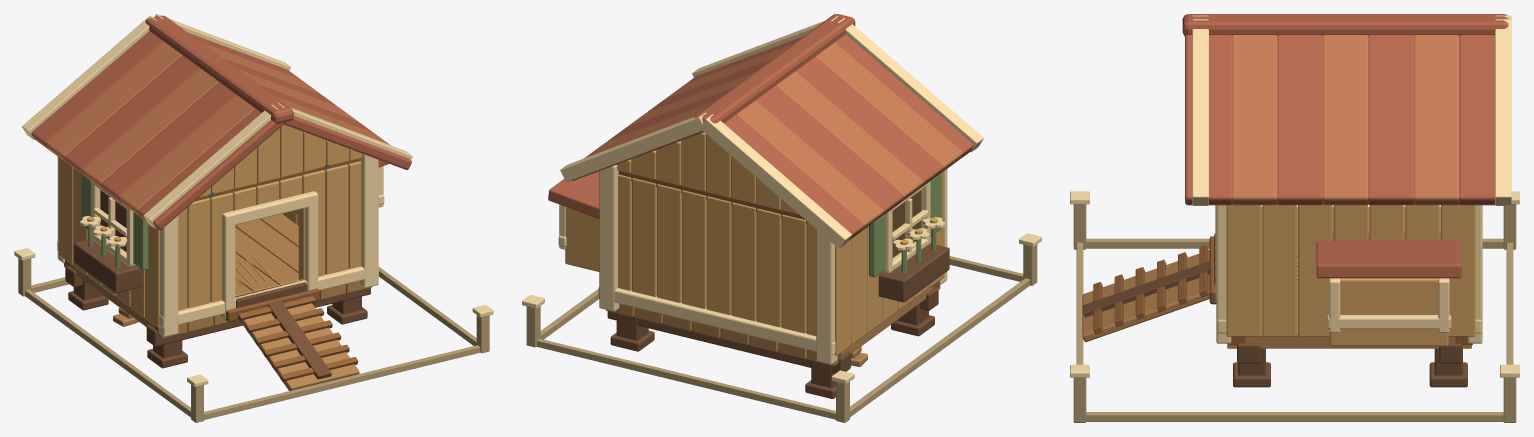
The model's file is ChickenCoop.glb.
3 renders of one model, left to right at view 1: azimuth 30°, elevation 25°; view 2: azimuth 150°, elevation 25°; view 3: azimuth 270°, elevation 25°, orthographic. The views are drawn at different scales.
Visible parts, largest first — view 1: Coop_4_RoofRed, Coop_3_WallHoney, Coop_4_RoofLight, Coop_3_Cream, Coop_0_Blueprint, Coop_4_Cream, Coop_1_BaseLight, Coop_1_BaseDark, Coop_4_BaseDark, Coop_4_FrameOak, Coop_4_BaseLight, Coop_3_BaseDark (+4 smaller); view 2: Coop_3_WallHoney, Coop_4_RoofRed, Coop_4_RoofLight, Coop_3_Cream, Coop_4_Cream, Coop_0_Blueprint, Coop_1_BaseDark, Coop_1_BaseLight, Coop_4_BaseDark, Coop_4_WallHoney, Coop_3_Sage, Coop_2_FrameOak (+2 smaller); view 3: Coop_4_RoofRed, Coop_4_RoofLight, Coop_3_WallHoney, Coop_0_Blueprint, Coop_4_Cream, Coop_4_WallHoney, Coop_4_BaseLight, Coop_1_BaseDark, Coop_3_Cream, Coop_4_FrameOak, Coop_1_BaseLight, Coop_4_BaseDark (+2 smaller).
Part boxes in pixels (x1,y1,x2,y2): Coop_4_RoofRed: (31,15,411,230); Coop_3_WallHoney: (59,124,361,327); Coop_4_RoofLight: (46,42,389,216); Coop_3_Cream: (57,153,378,336); Coop_0_Blueprint: (18,258,489,422); Coop_4_Cream: (22,14,412,246); Coop_1_BaseLight: (64,213,372,338); Coop_1_BaseDark: (65,265,370,368); Coop_4_BaseDark: (74,239,331,379); Coop_4_FrameOak: (237,296,358,382); Coop_4_BaseLight: (241,303,359,390); Coop_3_BaseDark: (100,190,307,307); Coop_3_WallHoney: (617,132,944,355); Coop_4_RoofRed: (548,14,973,240); Coop_4_RoofLight: (588,42,963,231); Coop_3_Cream: (598,165,947,364); Coop_4_Cream: (558,16,983,250); Coop_0_Blueprint: (526,244,1037,422); Coop_1_BaseDark: (607,287,938,398); Coop_1_BaseLight: (606,284,940,366); Coop_4_BaseDark: (878,243,949,302); Coop_4_WallHoney: (565,207,599,271); Coop_3_Sage: (869,173,941,277); Coop_2_FrameOak: (616,171,939,360); Coop_4_RoofRed: (1182,14,1508,278); Coop_4_RoofLight: (1231,35,1458,205); Coop_3_WallHoney: (1226,205,1475,336); Coop_0_Blueprint: (1073,204,1516,422); Coop_4_Cream: (1192,15,1511,332); Coop_4_WallHoney: (1329,278,1448,346); Coop_4_BaseLight: (1082,250,1209,342); Coop_1_BaseDark: (1233,343,1467,387); Coop_3_Cream: (1215,205,1482,343); Coop_4_FrameOak: (1093,244,1208,334); Coop_1_BaseLight: (1227,206,1471,348); Coop_4_BaseDark: (1083,261,1209,317).
Size of the model in its own units: 2.6 by 2.06 by 2.72.
